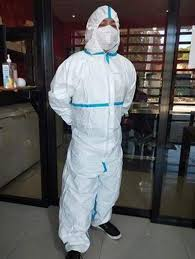Coverall: (45, 4, 140, 254)
with_mask: (96, 19, 117, 51)
